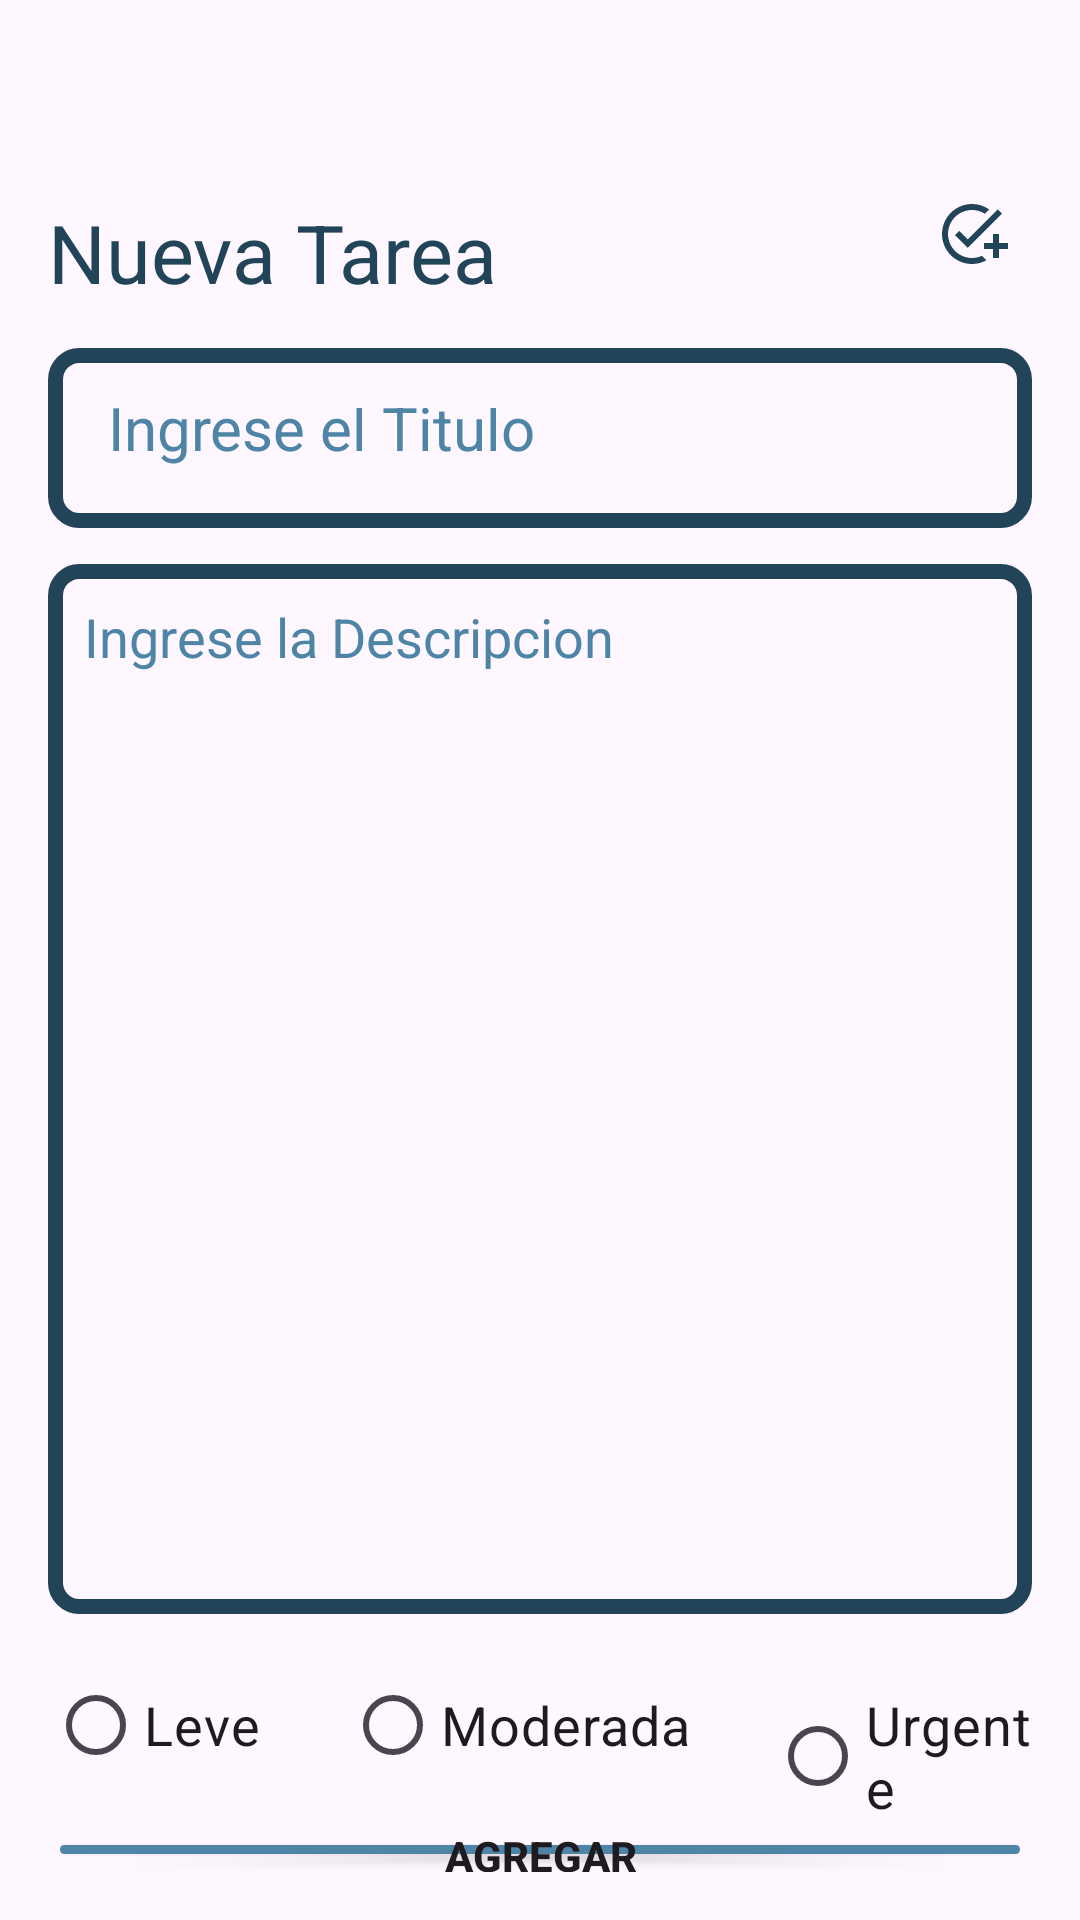

Where to tap for icons on this 1080x1920 app screen, as (x,y):
Imagen Tarea: (975,234)
